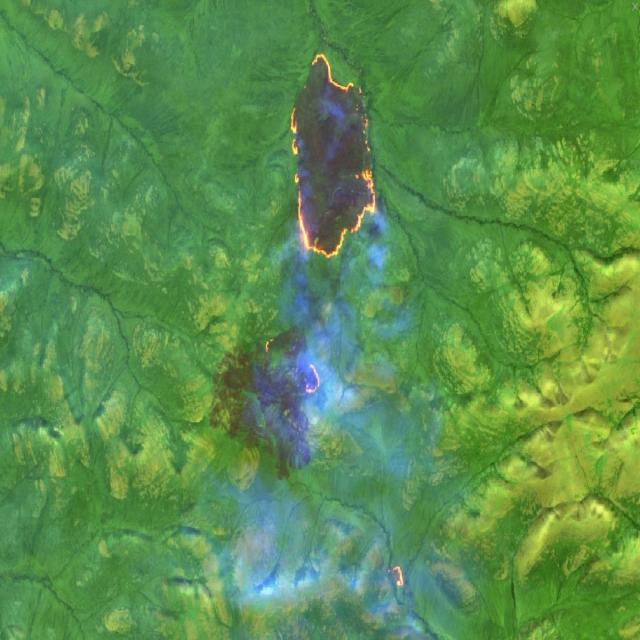fire: (287, 46, 380, 265)
